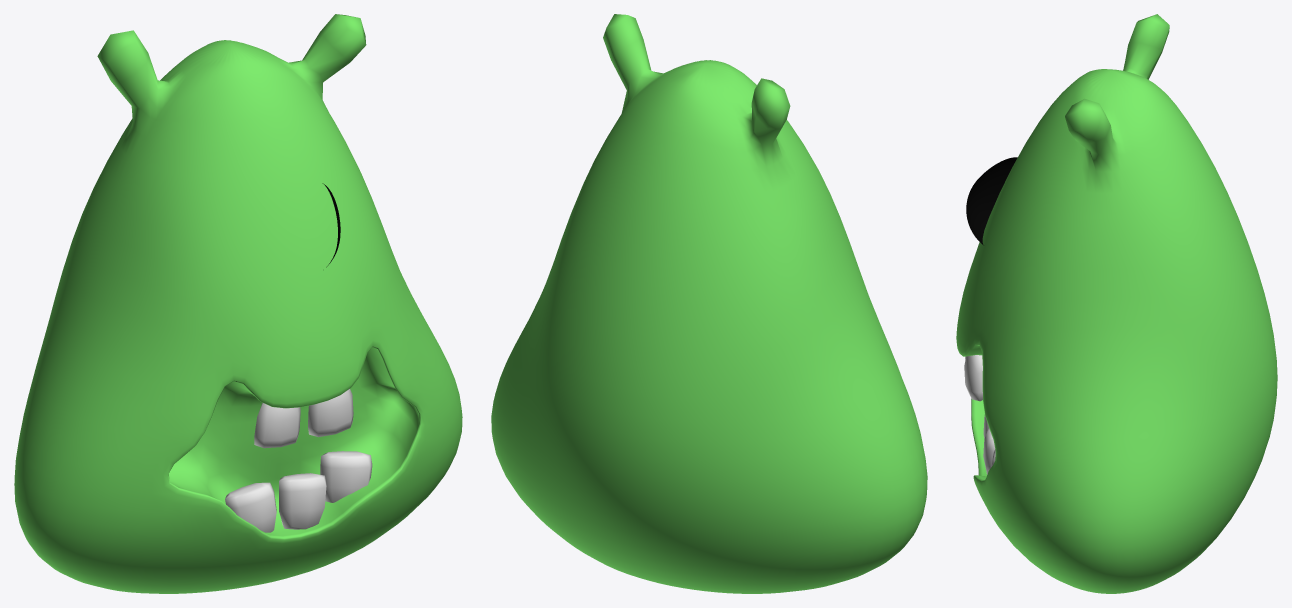
Rendered from Weezyx.fbx.
The picture shows the model from 3 angles, left to right: view 1: azimuth 30°, elevation 25°; view 2: azimuth 150°, elevation 25°; view 3: azimuth 270°, elevation 25°; orthographic projection. The views are drawn at different scales.
Visible parts, largest first — view 1: Weezyx; view 2: Weezyx; view 3: Weezyx.
Part boxes in pixels (x1,y1,x2,y2): Weezyx: (14, 14, 462, 593); Weezyx: (491, 14, 927, 593); Weezyx: (956, 14, 1277, 593).
Size of the model in its own units: 2718 by 3344 by 1935.
